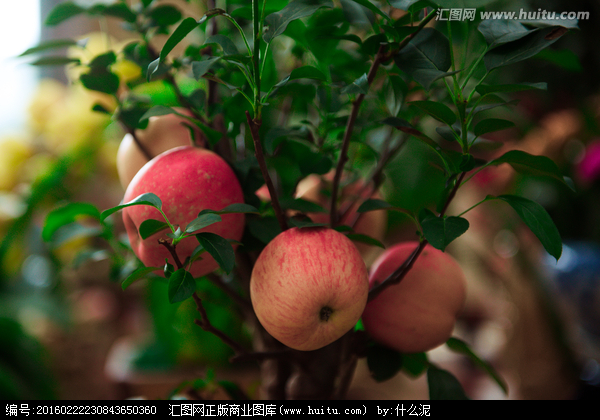apple: (250, 228, 368, 349), (360, 241, 464, 352)
obscured(1)_apple: (122, 145, 246, 278)
